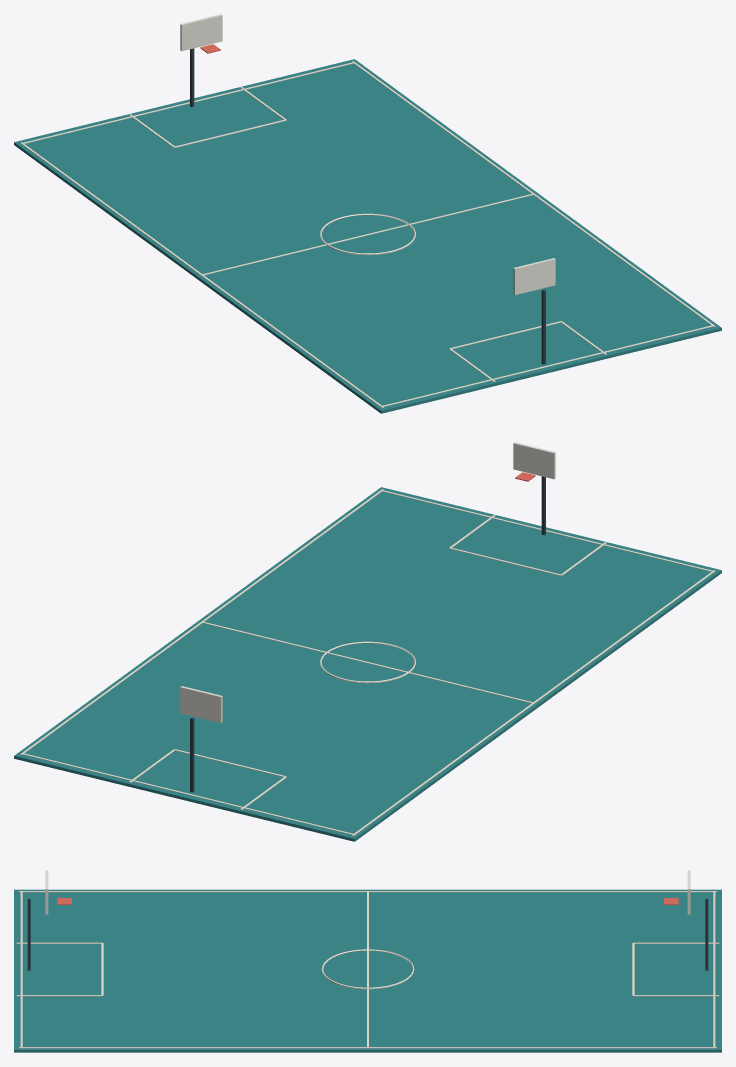
File: BasketballCourt.fbx
3 views of the same model, one above another, from view 1: azimuth 30°, elevation 25°; view 2: azimuth 150°, elevation 25°; view 3: azimuth 270°, elevation 25° (orthographic). The views are drawn at different scales.
Visible parts, largest first — view 1: BasketballCourt; view 2: BasketballCourt; view 3: BasketballCourt.
Boxes of the visible parts, left/top/right/bottom form: BasketballCourt: left=14, top=14, right=721, bottom=413; BasketballCourt: left=14, top=442, right=721, bottom=841; BasketballCourt: left=14, top=870, right=721, bottom=1052.
Size of the model in its own units: 15 by 4.05 by 28.
